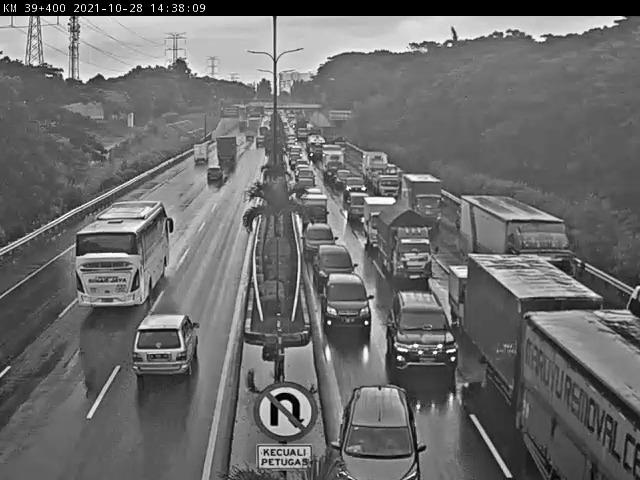big bus: (67, 201, 169, 319)
big truck: (460, 248, 602, 403), (524, 311, 640, 480), (458, 189, 592, 300), (377, 211, 436, 294), (404, 171, 451, 228), (363, 194, 405, 247), (360, 155, 407, 200), (215, 135, 244, 165), (191, 141, 214, 164)
car: (323, 388, 414, 480), (119, 311, 203, 394), (392, 289, 460, 386), (320, 269, 371, 339), (319, 244, 358, 306), (305, 221, 339, 256), (348, 193, 383, 224), (301, 193, 332, 224), (343, 178, 366, 202), (202, 162, 222, 188)
small truck: (445, 260, 497, 318)
